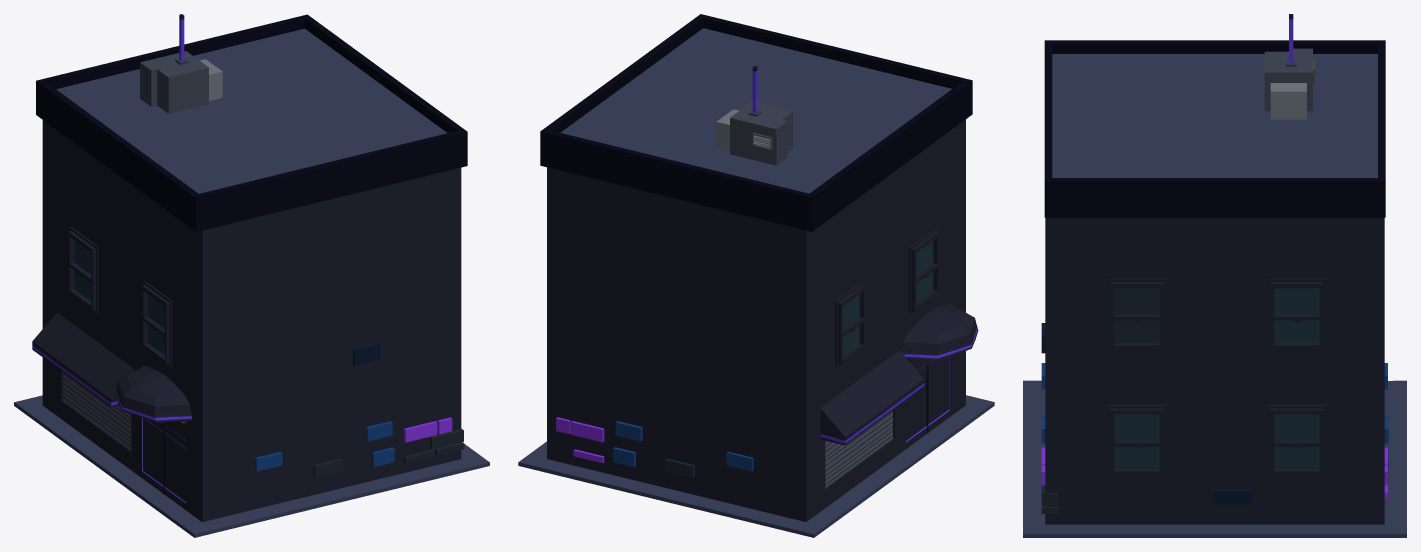
The model's file is Building_FairbankFinancial.fbx.
The picture shows the model from 3 angles, left to right: view 1: azimuth 30°, elevation 25°; view 2: azimuth 150°, elevation 25°; view 3: azimuth 270°, elevation 25°; orthographic projection. The views are drawn at different scales.
Visible parts, largest first — view 1: Cube.689, Cube.691, Cube.692; view 2: Cube.689, Cube.691, Cube.692; view 3: Cube.689.
Boxes of the visible parts, x1,y1,x2,y2 form: Cube.689: [14, 14, 489, 537]; Cube.691: [164, 425, 187, 511]; Cube.692: [140, 417, 163, 493]; Cube.689: [518, 14, 994, 537]; Cube.691: [927, 356, 951, 432]; Cube.692: [903, 364, 927, 450]; Cube.689: [1023, 14, 1406, 537].
Size of the model in its own units: 685 by 823 by 668.
